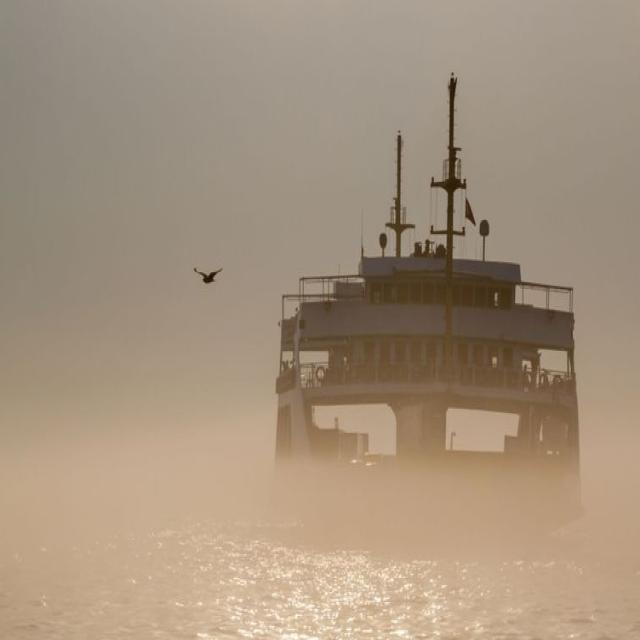passenger ship: (216, 127, 640, 557)
